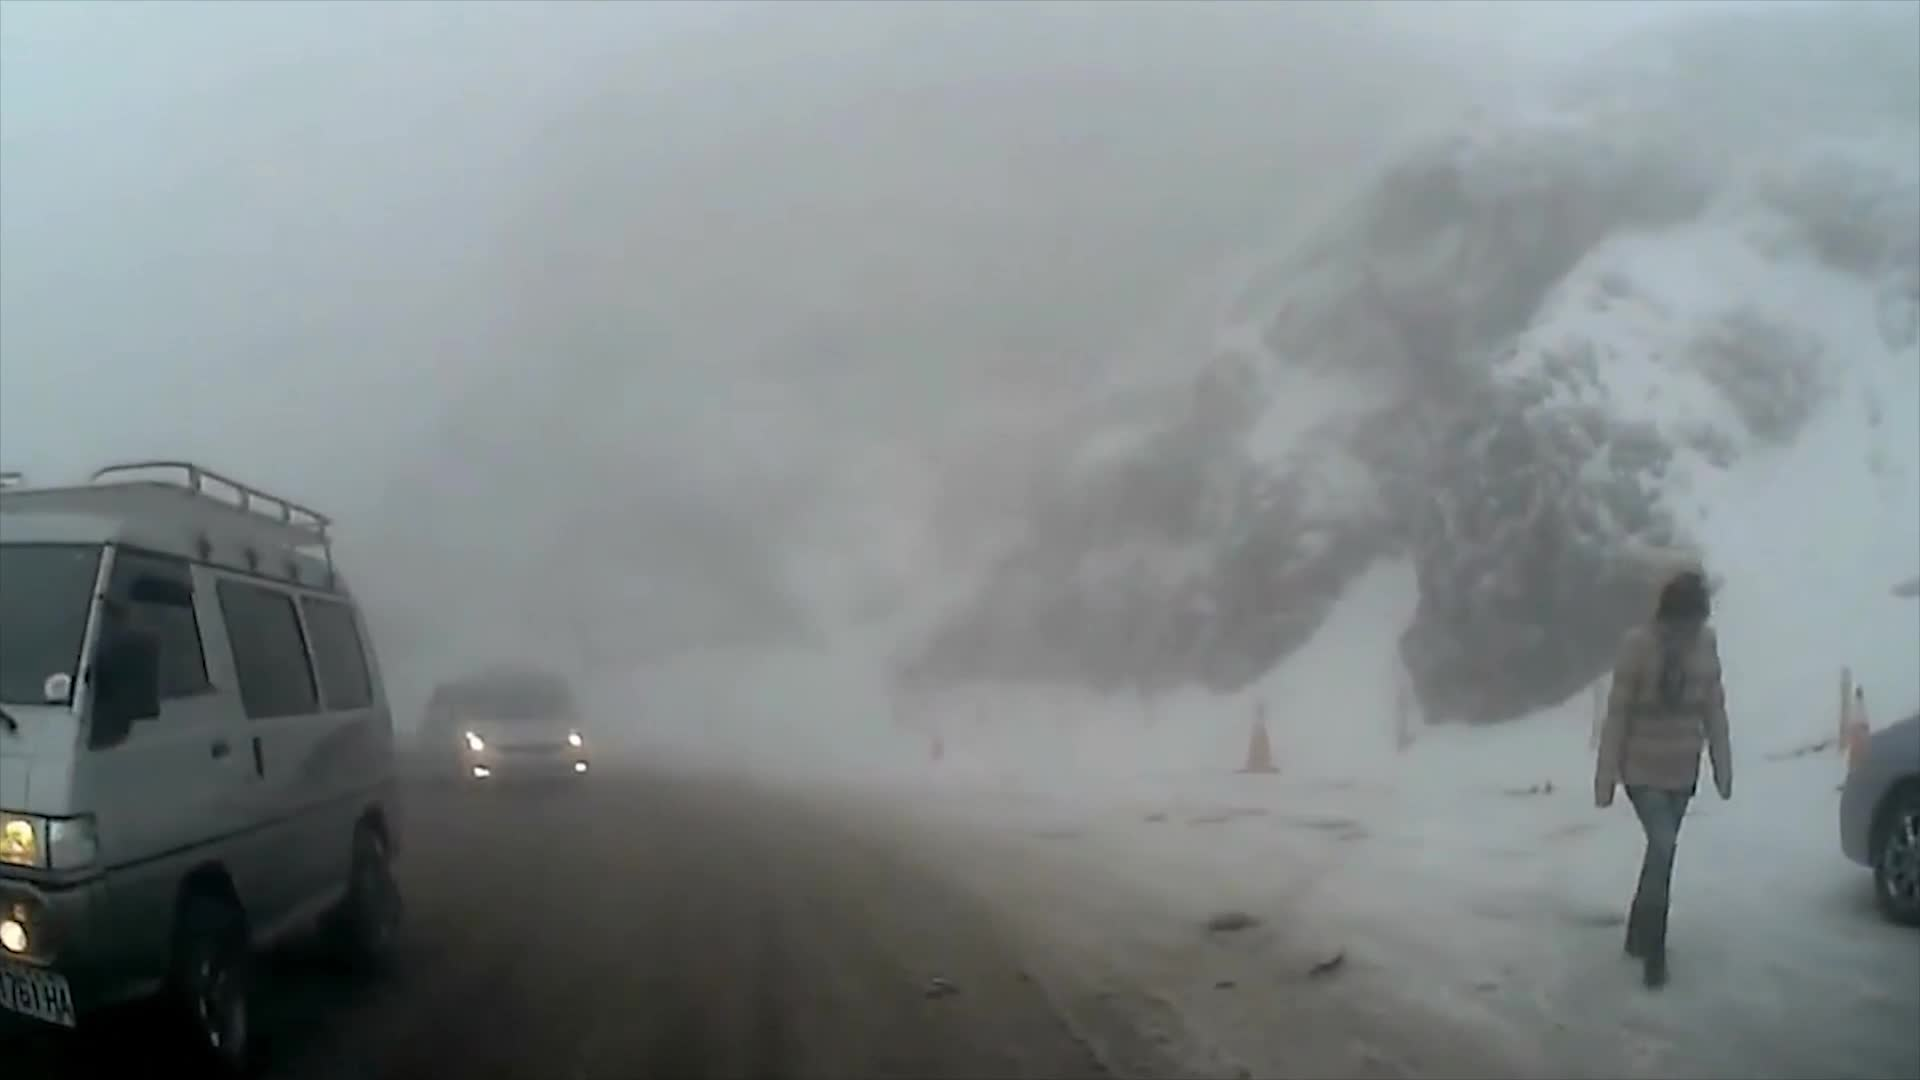pedestrian: (1587, 548, 1736, 990)
vehicle: (0, 462, 412, 1080), (421, 671, 596, 798), (1837, 709, 1919, 929)
